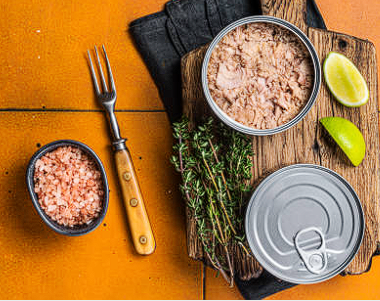Danificado: (203, 15, 316, 136), (19, 139, 113, 240)
Intacto: (243, 161, 365, 290)
